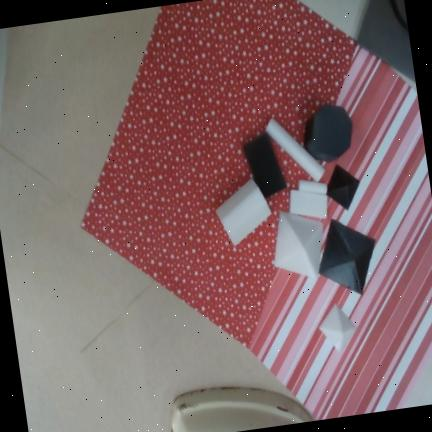Cilindro: (264, 117, 325, 181), (298, 179, 327, 194)
Paralelepipedo: (243, 132, 287, 197), (289, 189, 327, 218)
Piramide: (317, 218, 375, 295), (274, 210, 323, 278), (318, 302, 356, 351), (326, 163, 360, 210)
Prisma_hexagonal: (215, 176, 271, 247), (303, 104, 352, 161)
